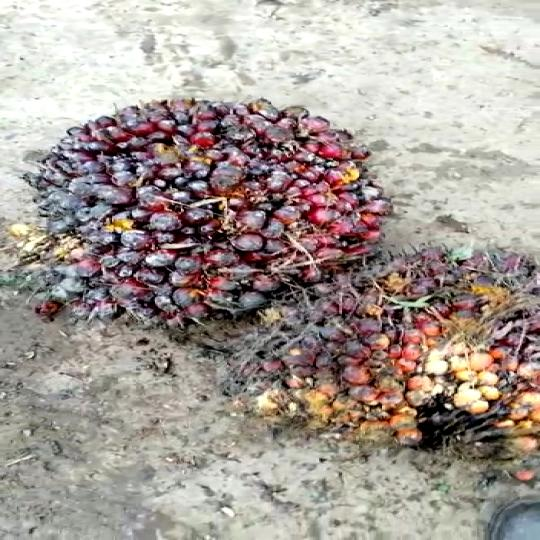kurang masak: (31, 93, 368, 306), (234, 241, 540, 470)
